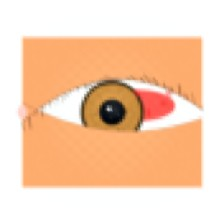hemorrhage_spot: (90, 66, 188, 145)
